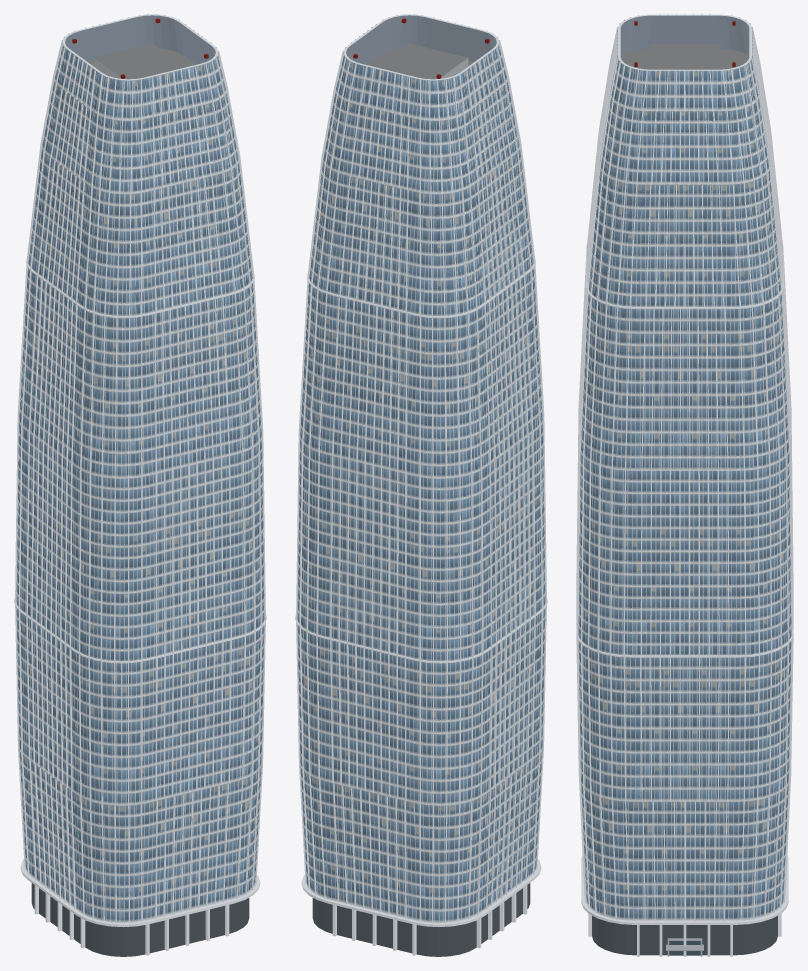
File: azabudai_hills_mori_jp_tower.glb
3 views of the same model, side by side, from view 1: azimuth 30°, elevation 25°; view 2: azimuth 150°, elevation 25°; view 3: azimuth 270°, elevation 25° (orthographic).
Visible parts, largest first — view 1: azabudai_hills_mori_jp_tower; view 2: azabudai_hills_mori_jp_tower; view 3: azabudai_hills_mori_jp_tower.
Part boxes in pixels (left/top/right/bottom): azabudai_hills_mori_jp_tower: left=14, top=14, right=266, bottom=956; azabudai_hills_mori_jp_tower: left=295, top=14, right=547, bottom=956; azabudai_hills_mori_jp_tower: left=576, top=14, right=793, bottom=956.
Bounding box in the file's own units: 74 × 330 × 74.49.
2 materials, 2 textured.
